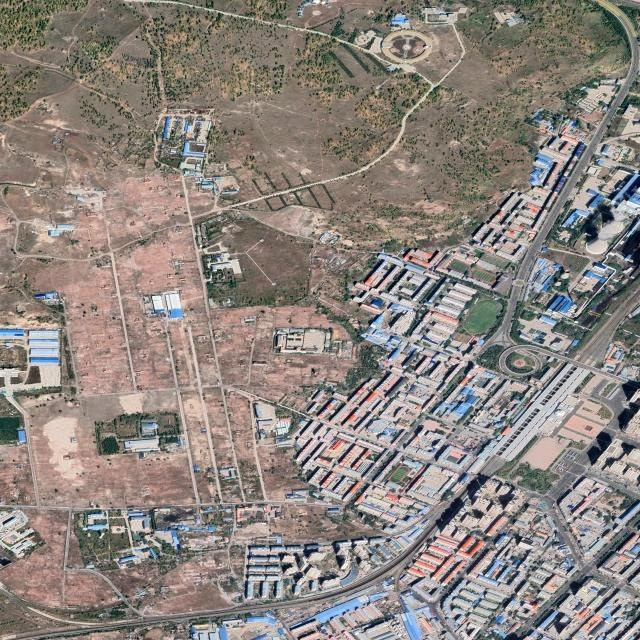coal_fired_power_plant: (526, 163, 640, 319)
